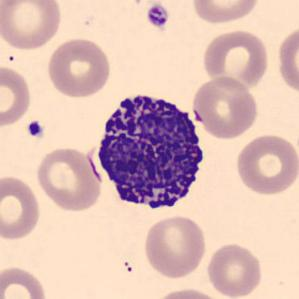Basophil: (90, 85, 212, 219)
Platelets: (145, 3, 170, 30), (25, 119, 45, 140)
RBC: (33, 145, 104, 213), (200, 27, 271, 92), (141, 212, 208, 280), (190, 75, 260, 140), (45, 35, 113, 99), (233, 131, 298, 197), (204, 241, 264, 298), (0, 0, 64, 52), (0, 173, 43, 242), (0, 63, 33, 129), (190, 0, 262, 26), (275, 21, 298, 100), (0, 264, 49, 299), (152, 286, 224, 299)
